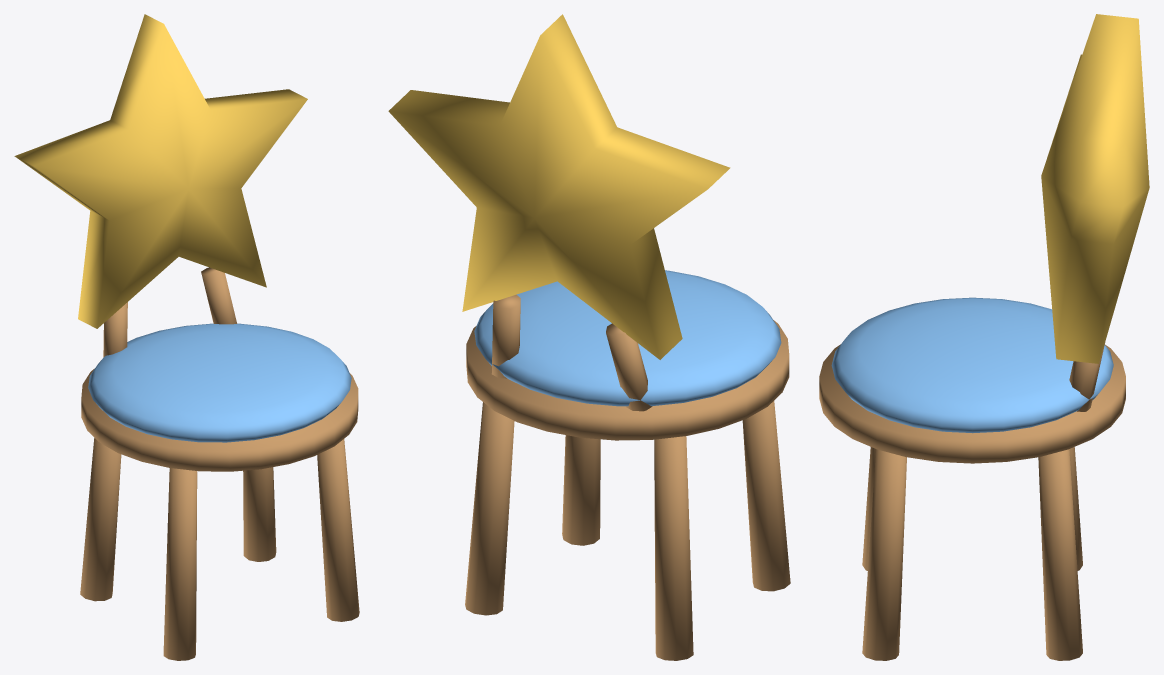
File: star-chair.glb
3 renders of one model, left to right at view 1: azimuth 30°, elevation 25°; view 2: azimuth 150°, elevation 25°; view 3: azimuth 270°, elevation 25°, orthographic. The views are drawn at different scales.
Visible parts, largest first — view 1: chair; view 2: chair; view 3: chair.
Part boxes in pixels (bbox=[...]): chair: bbox=[14, 14, 359, 660]; chair: bbox=[388, 14, 790, 660]; chair: bbox=[819, 14, 1149, 660].
Size of the model in its own units: 0.5706 by 1.07 by 0.5384.
